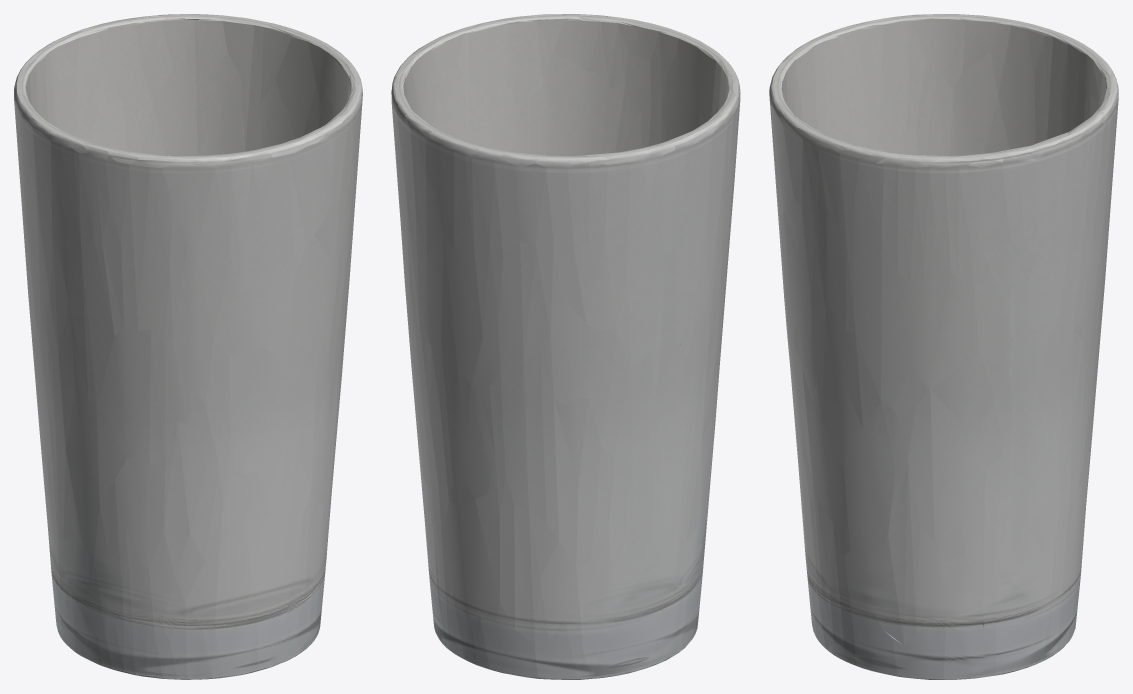
The model's file is bicchiere_N.glb.
3 views of the same model, side by side, from view 1: azimuth 30°, elevation 25°; view 2: azimuth 150°, elevation 25°; view 3: azimuth 270°, elevation 25° (orthographic).
Bounding box in the file's own units: 1.12 × 1.9 × 1.12.
Materials: 1 (1 with a texture image).
